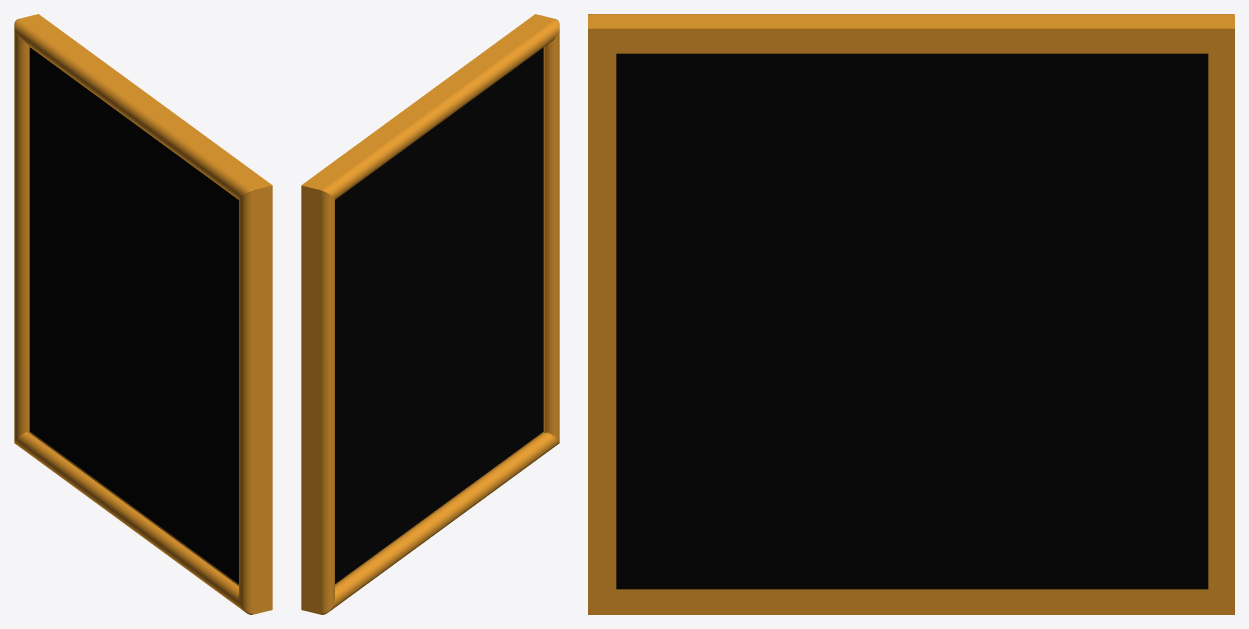
File: PictureFrame.fbx
3 renders of one model, left to right at view 1: azimuth 30°, elevation 25°; view 2: azimuth 150°, elevation 25°; view 3: azimuth 270°, elevation 25°, orthographic. The views are drawn at different scales.
Parts seen in each view (by area): view 1: PictureFrame; view 2: PictureFrame; view 3: PictureFrame.
Part boxes in pixels (left/top/right/bottom): PictureFrame: left=14, top=14, right=272, bottom=614; PictureFrame: left=301, top=14, right=559, bottom=614; PictureFrame: left=588, top=14, right=1234, bottom=614.
Bounding box in the file's own units: 13.61 × 200 × 200.
